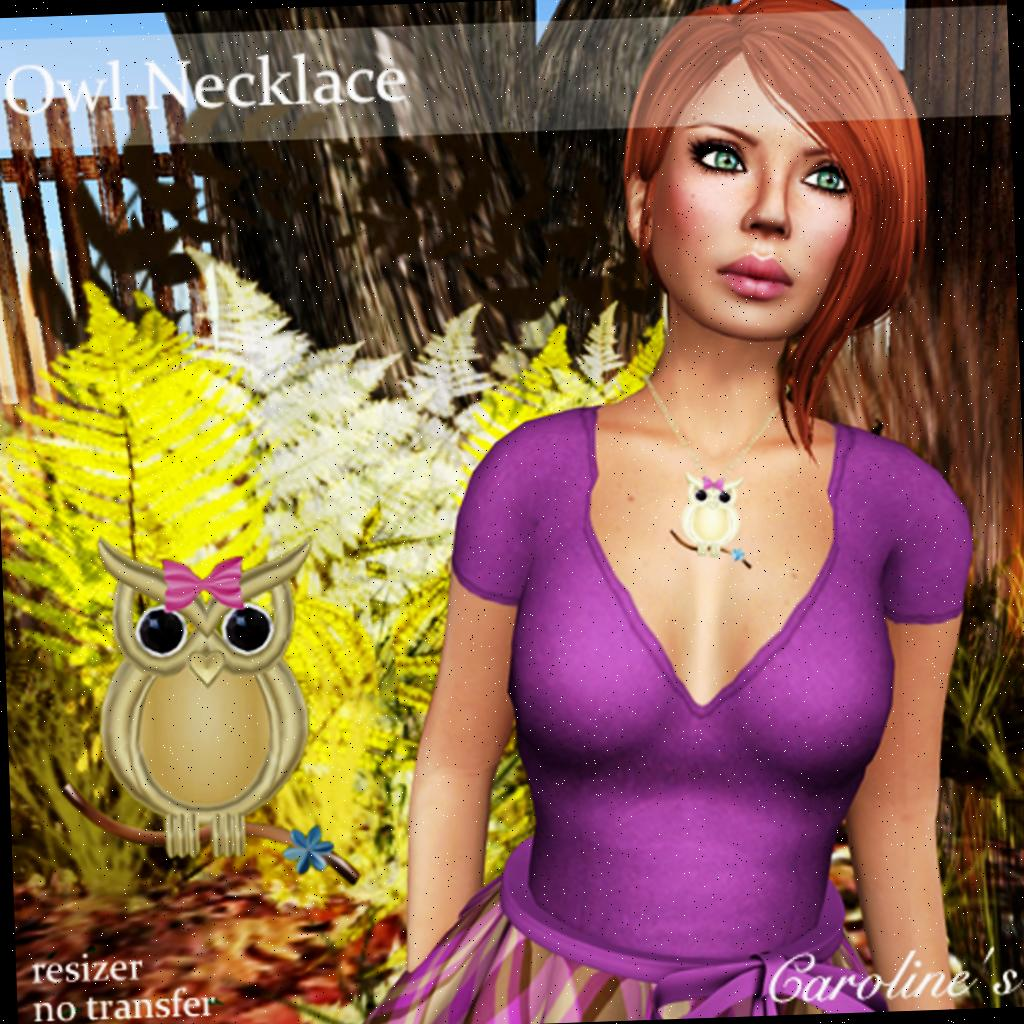Owl: (81, 545, 330, 875)
